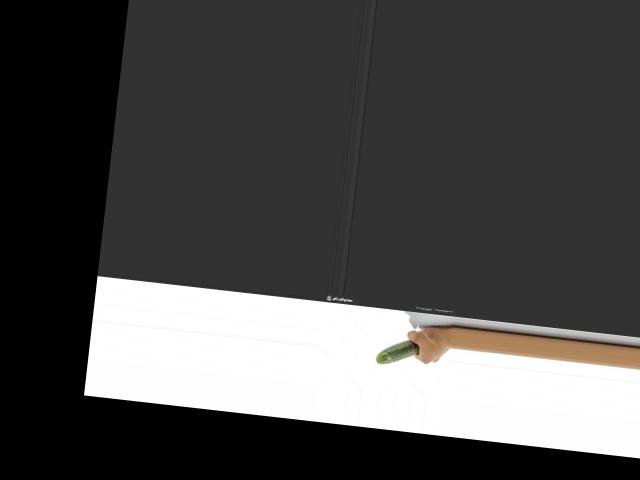cucumber: (376, 336, 420, 368)
